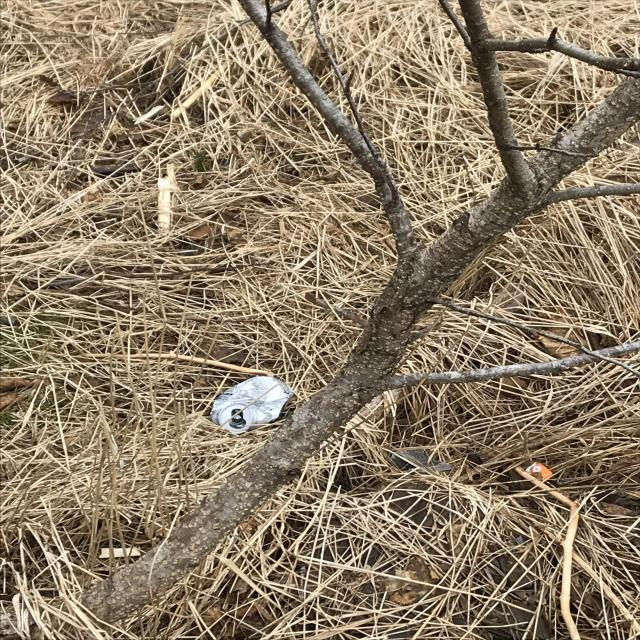litter: (501, 259, 578, 322), (616, 66, 640, 87), (545, 298, 563, 307)
